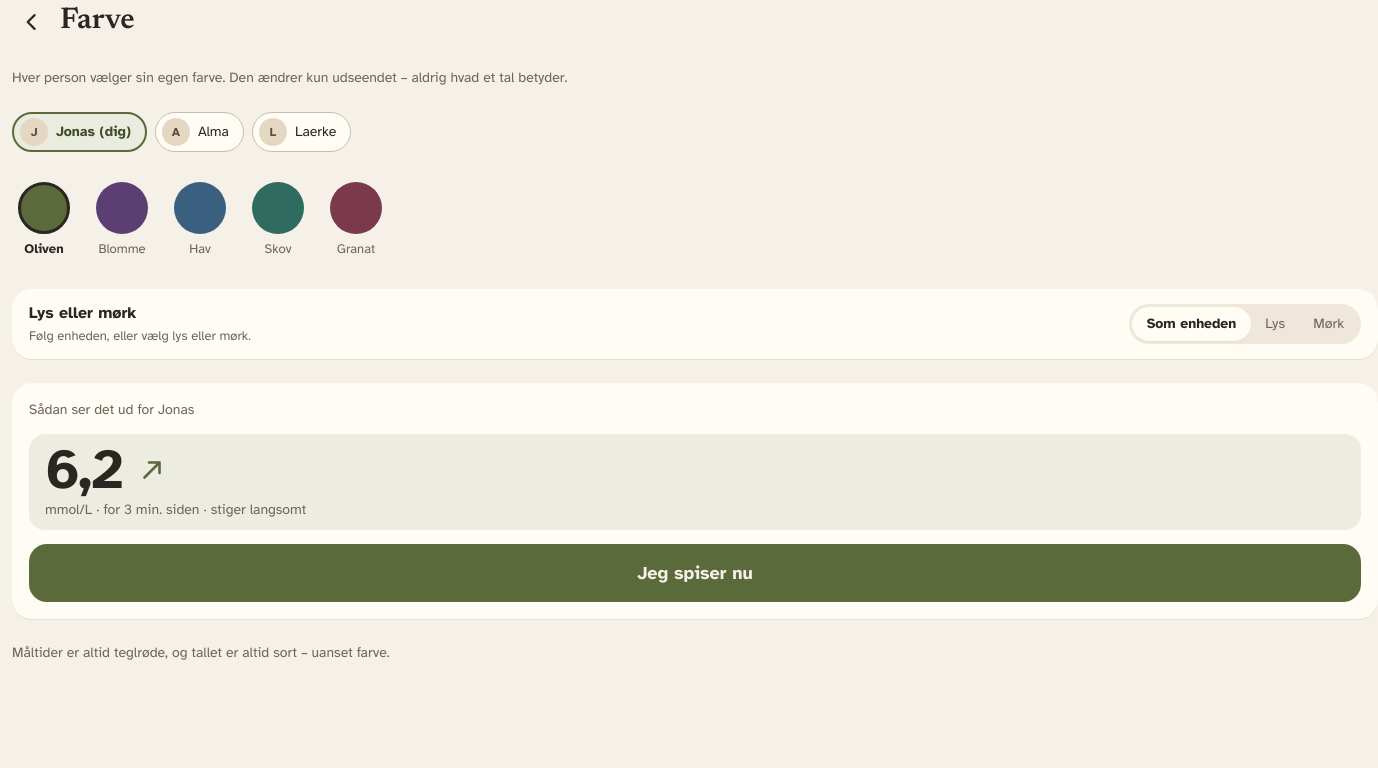
Scenario: ColourScreen (Farve-Indstilling) › shows the API's message by code when the write is refused and keeps the old colour
Click the radio button with aria-label "Vælg farven Hav til Jonas": [200, 220] box left=168, top=176, right=232, bottom=265
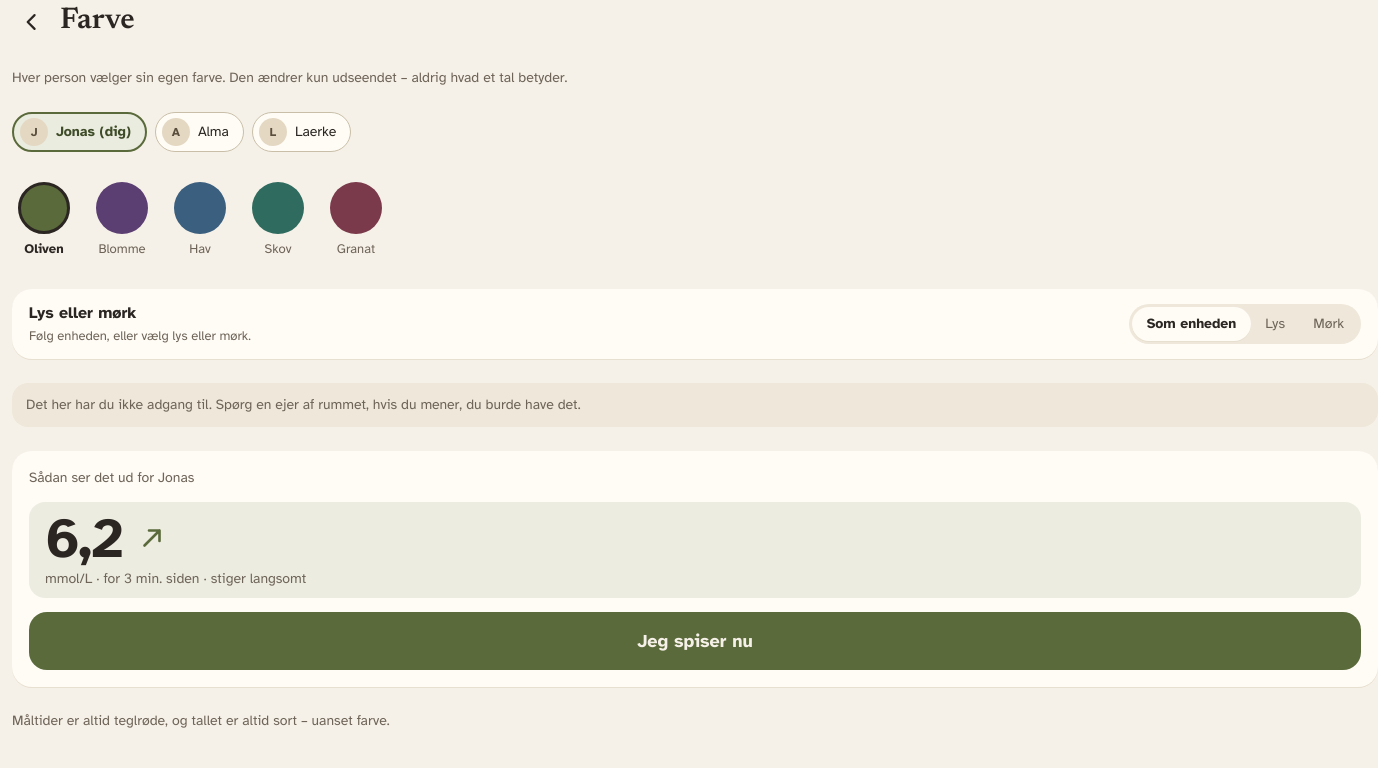
Expected: the message is shown, left=12, top=383, right=1377, bottom=427
